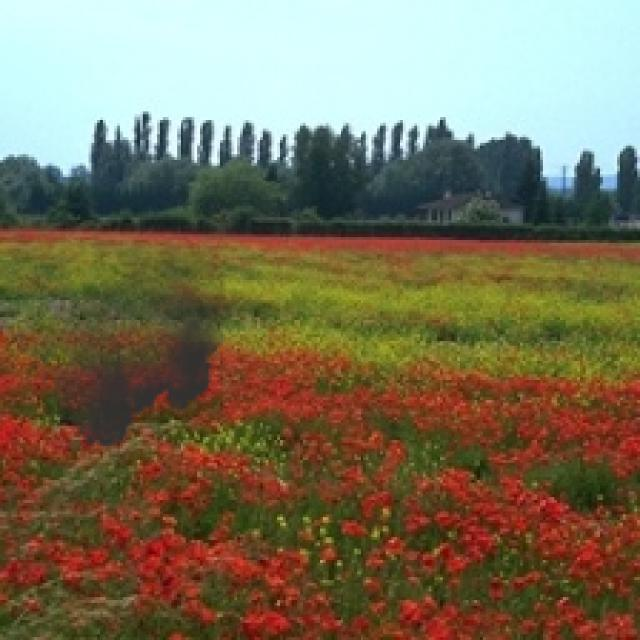Smoke: (8, 232, 232, 457)
